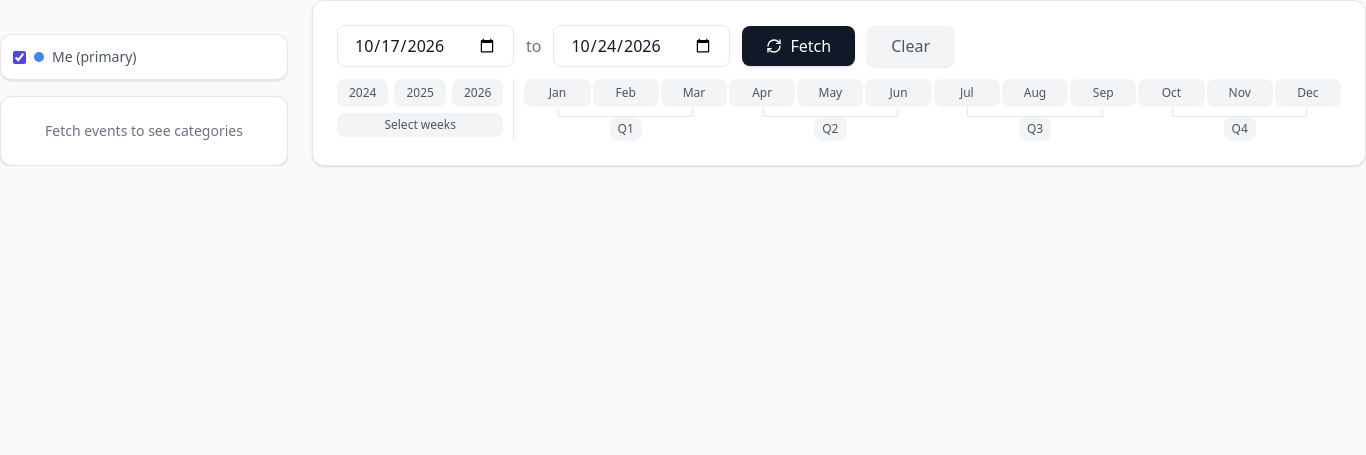
Dashboard › applies the search from the top bar
Click the button "Fetch": (799, 46) [742,26,855,66]
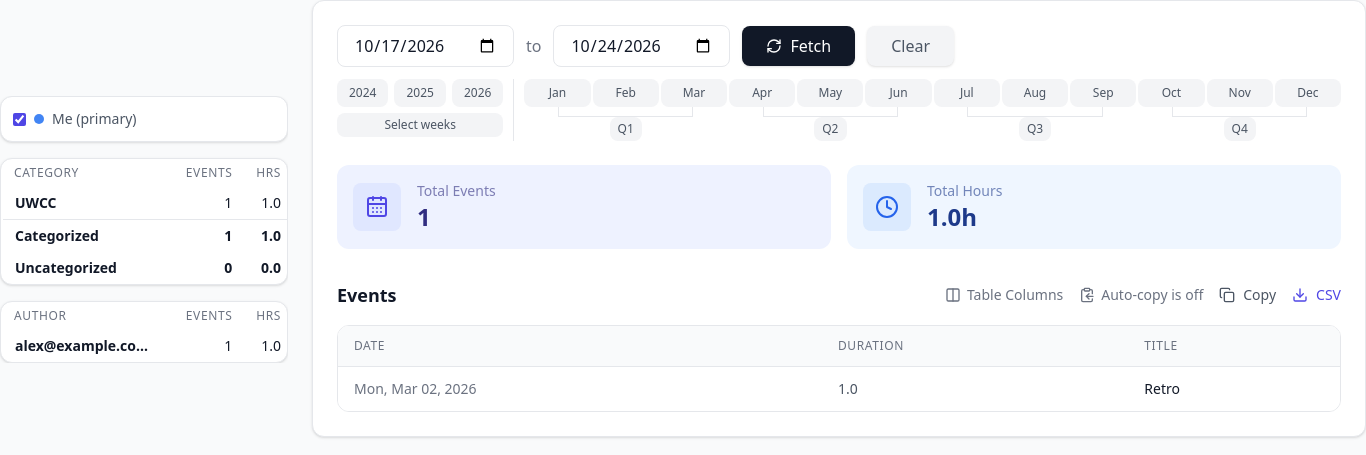
Expected: the text "Retro" is shown, [1128,366,1340,411]
